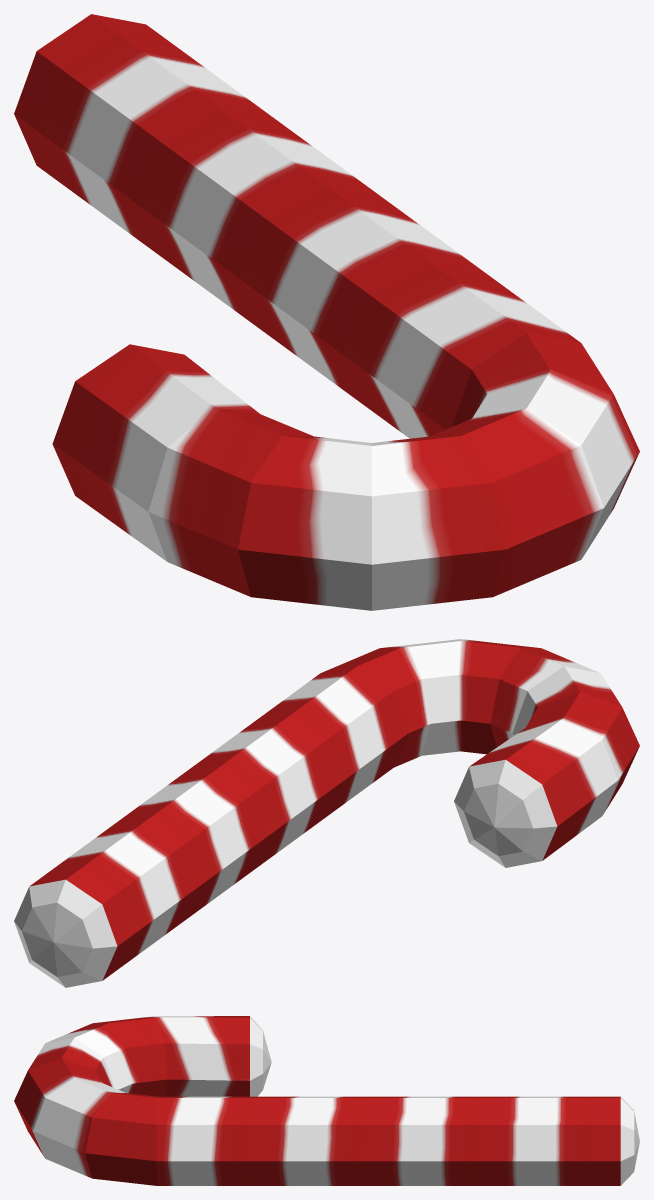
The model's file is noel.fbx.
3 views of the same model, one above another, from view 1: azimuth 30°, elevation 25°; view 2: azimuth 150°, elevation 25°; view 3: azimuth 270°, elevation 25° (orthographic). The views are drawn at different scales.
Visible parts, largest first — view 1: noel; view 2: noel; view 3: noel.
Part boxes in pixels (x1,y1,x2,y2): noel: (14, 14, 639, 610); noel: (14, 639, 639, 987); noel: (14, 1016, 639, 1185).
Size of the model in its own units: 1.27 by 0.4242 by 2.79.
